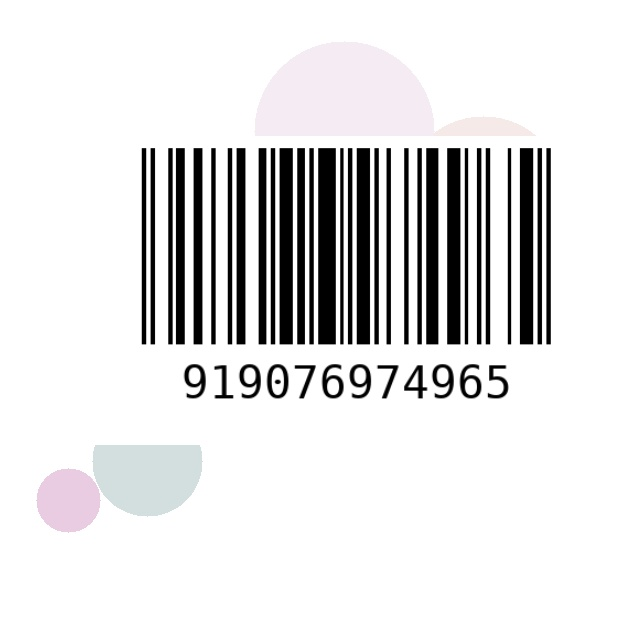barcode: (58, 136, 635, 445)
